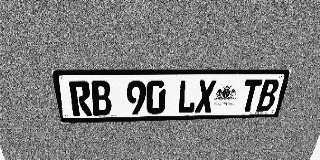0: (146, 80, 166, 114)
9: (126, 80, 146, 115)
B: (90, 81, 112, 116), (256, 79, 280, 111)
L: (177, 80, 198, 114)
R: (68, 81, 93, 116)
T: (239, 79, 263, 112)
X: (195, 80, 217, 113)
